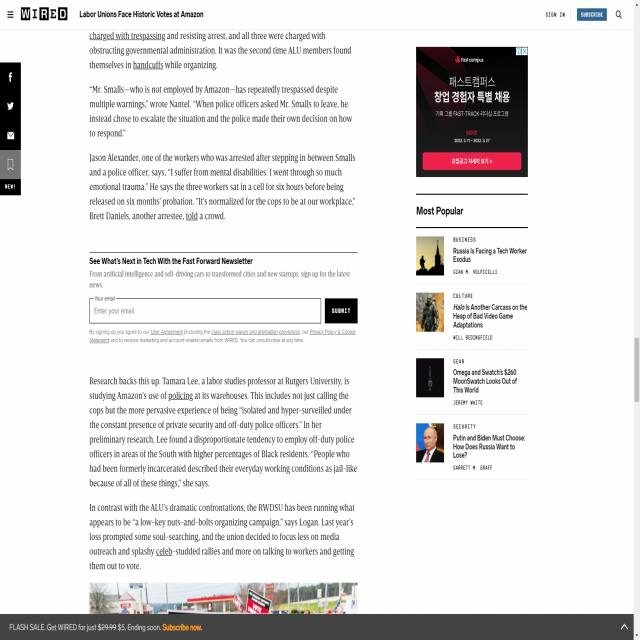menu-bar: (539, 2, 627, 25), (1, 4, 18, 24)
